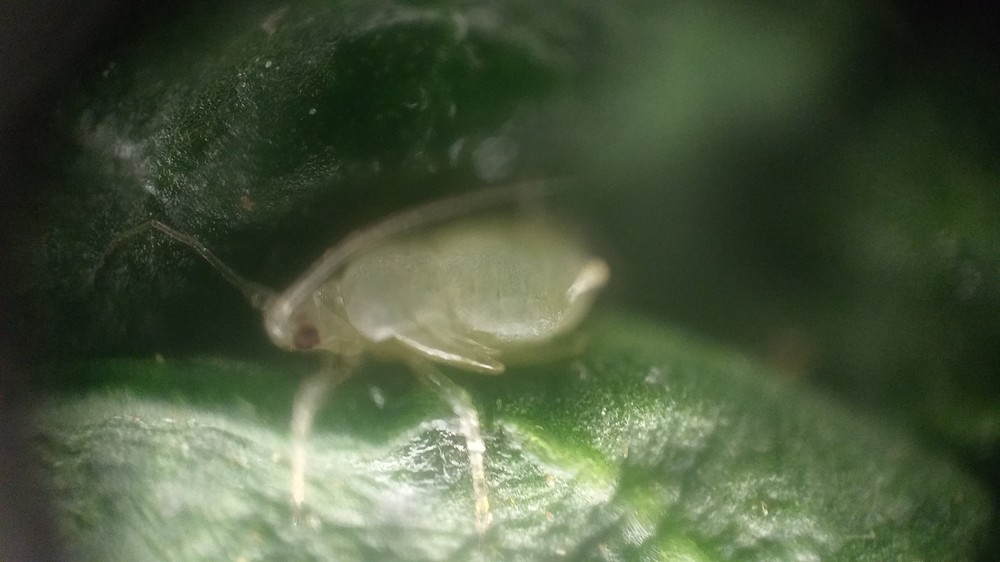Pulgon: (136, 132, 677, 511)
